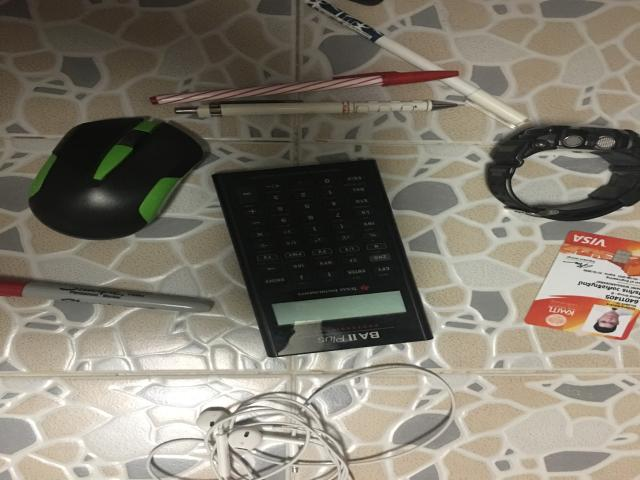Mouse: (28, 118, 203, 240)
Pen: (305, 0, 528, 128), (150, 70, 458, 104), (0, 279, 215, 312), (175, 100, 457, 117)
Watch: (487, 126, 640, 221)
wire: (147, 364, 453, 480)
